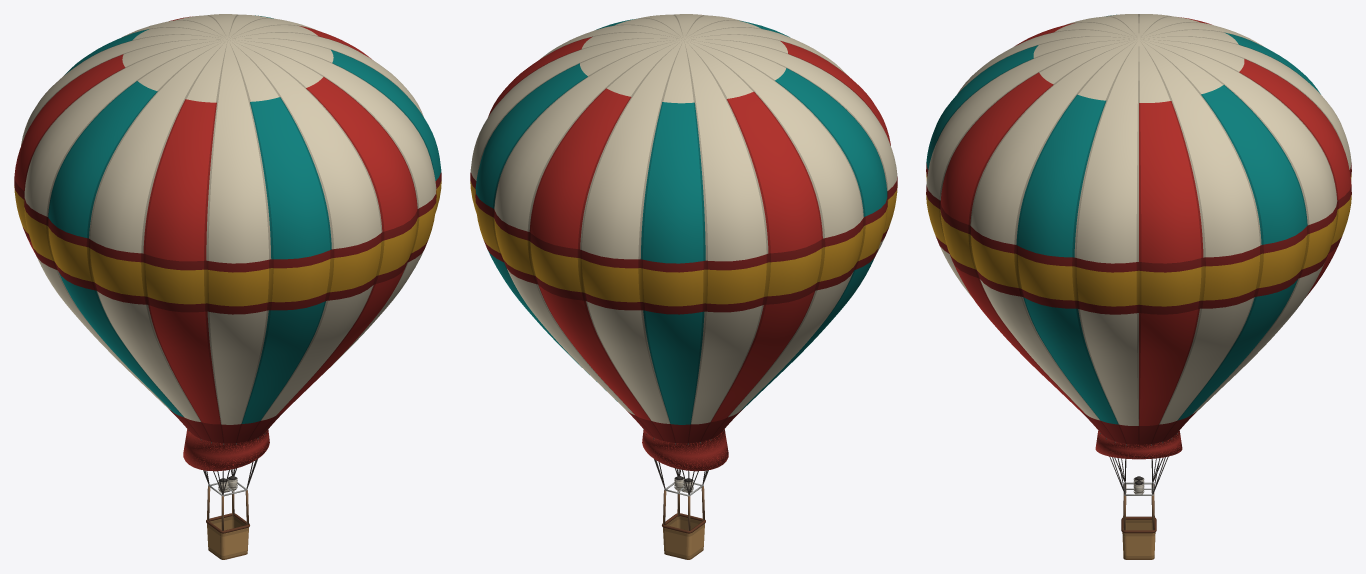
Rendered from balloon.glb.
3 renders of one model, left to right at view 1: azimuth 30°, elevation 25°; view 2: azimuth 150°, elevation 25°; view 3: azimuth 270°, elevation 25°, orthographic.
Parts seen in each view (by area): view 1: envelope, skirt, basket, frame; view 2: envelope, skirt, basket, frame; view 3: envelope, skirt, basket, wires.
Boxes of the visible parts, <box> form: envelope: <box>14,14,441,443</box>; skirt: <box>183,429,269,471</box>; basket: <box>207,516,248,559</box>; frame: <box>207,482,248,530</box>; envelope: <box>470,14,897,443</box>; skirt: <box>642,429,728,471</box>; basket: <box>663,516,704,559</box>; frame: <box>663,482,704,530</box>; envelope: <box>926,14,1351,444</box>; skirt: <box>1095,431,1182,459</box>; basket: <box>1122,519,1155,559</box>; wires: <box>1100,433,1177,494</box>.
Bounding box in the file's own units: 15.36 × 20.48 × 15.36.
